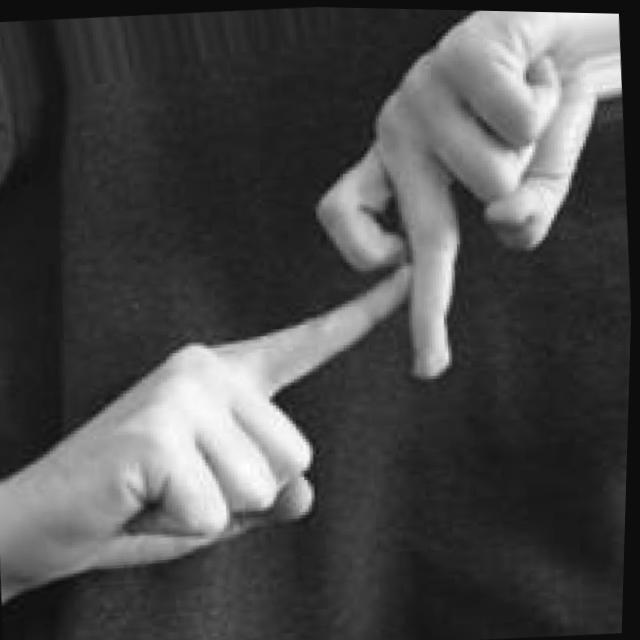R: (0, 0, 631, 599)
